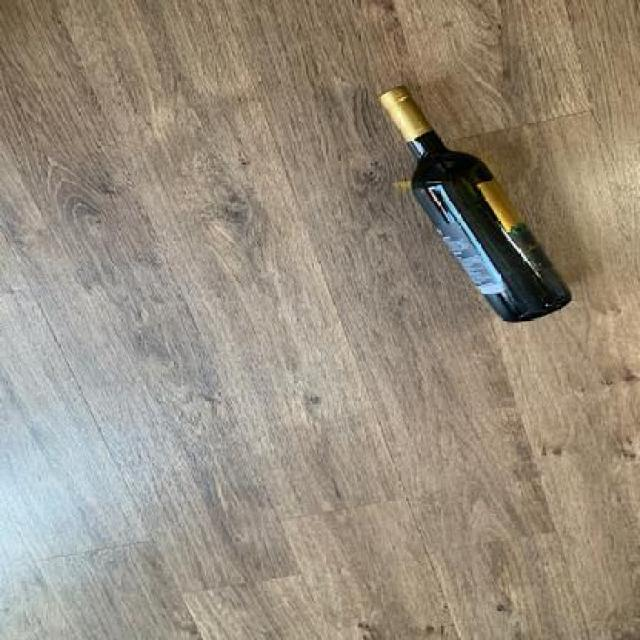trash: (372, 87, 577, 324)
